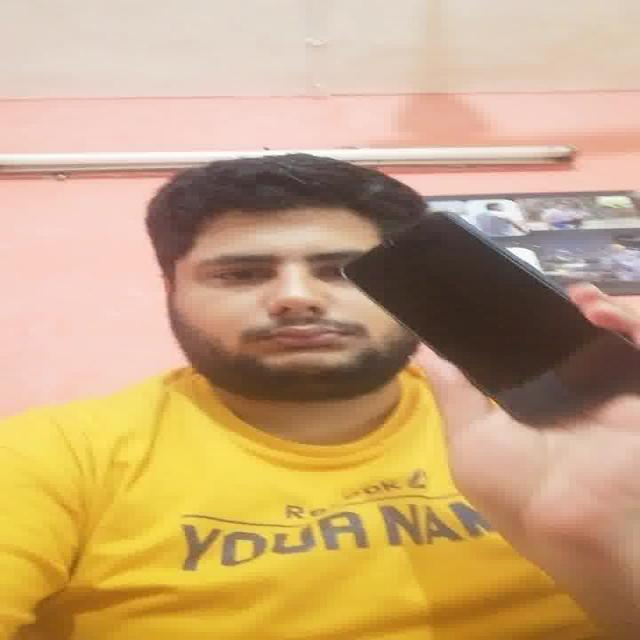Phone: (339, 206, 624, 431)
